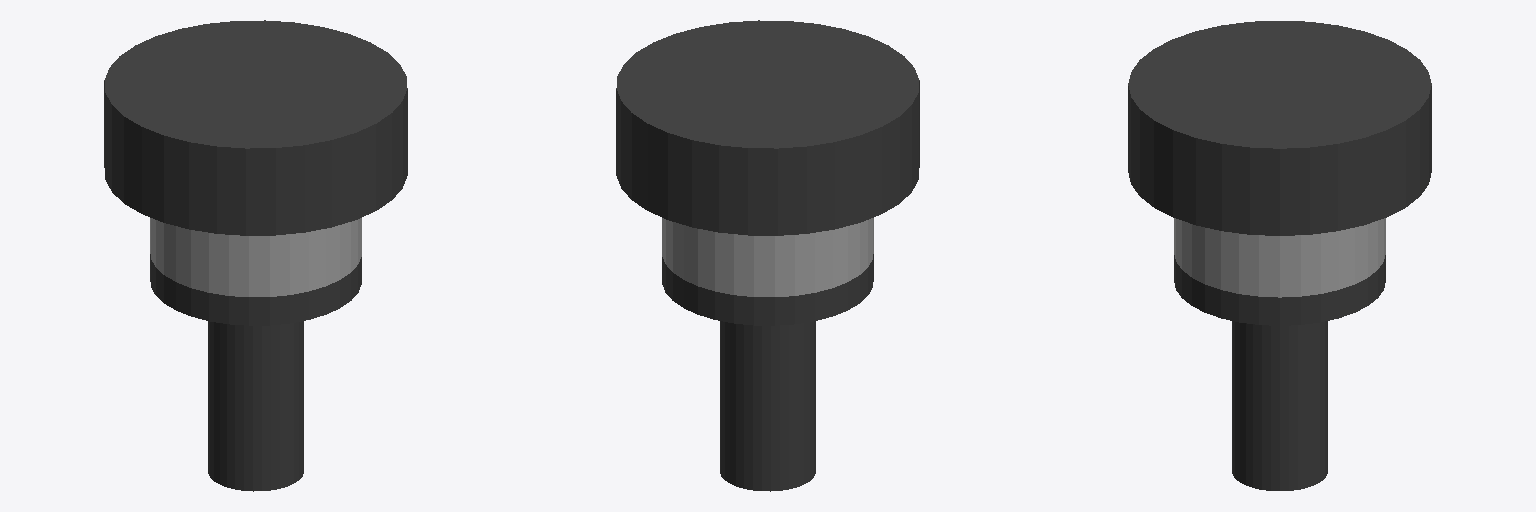
The robot description file, URDF, robot "panda":
<?xml version="1.0" ?>
<!-- =================================================================================== -->
<!-- |    This document was autogenerated by xacro from panda_arm_hand.urdf.xacro      | -->
<!-- |    EDITING THIS FILE BY HAND IS NOT RECOMMENDED                                 | -->
<!-- =================================================================================== -->
<robot name="panda" xmlns:xacro="http://www.ros.org/wiki/xacro">
  <link name="panda_link0">
  	<inertial>
      <origin rpy="0 0 0" xyz="0 0 0"/>
       <mass value="0.0"/>
       <inertia ixx="0.1" ixy="0" ixz="0" iyy="0.1" iyz="0" izz="0.1"/>
    </inertial>
    <visual>
      <geometry>
        <mesh filename="package://meshes/collision/link0.obj"/>
      </geometry>
      <material name="panda_white">
    		<color rgba="1. 1. 1. 1."/>
  		</material>
    </visual>
    <collision>
      <geometry>
        <mesh filename="package://meshes/collision/link0.obj"/>
      </geometry>
      <material name="panda_white"/>
    </collision>
  </link>
  <link name="panda_link1">
  	<inertial>
      <origin rpy="0 0 0" xyz="0 -0.04 -0.05"/>
       <mass value="2.7"/>
       <inertia ixx="0.1" ixy="0" ixz="0" iyy="0.1" iyz="0" izz="0.1"/>
    </inertial>
    <visual>
      <geometry>
        <mesh filename="package://meshes/visual/link1.obj"/>
      </geometry>
      <material name="panda_white"/>
    </visual>
    <collision>
      <geometry>
        <mesh filename="package://meshes/collision/link1.obj"/>
      </geometry>
      <material name="panda_white"/>
    </collision>
  </link>
  <joint name="panda_joint1" type="revolute">
    <safety_controller k_position="100.0" k_velocity="40.0" soft_lower_limit="-2.8973" soft_upper_limit="2.8973"/>
    <origin rpy="0 0 0" xyz="0 0 0.333"/>
    <parent link="panda_link0"/>
    <child link="panda_link1"/>
    <axis xyz="0 0 1"/>
    <limit effort="87" lower="-2.9671" upper="2.9671" velocity="2.1750"/>
  </joint>
  <link name="panda_link2">
  	<inertial>
      <origin rpy="0 0 0" xyz="0 -0.04 0.06"/>
       <mass value="2.73"/>
       <inertia ixx="0.1" ixy="0" ixz="0" iyy="0.1" iyz="0" izz="0.1"/>
    </inertial>
    <visual>
      <geometry>
        <mesh filename="package://meshes/visual/link2.obj"/>
      </geometry>
      <material name="panda_white"/>
    </visual>
    <collision>
      <geometry>
        <mesh filename="package://meshes/collision/link2.obj"/>
      </geometry>
      <material name="panda_white"/>
    </collision>
  </link>
  <joint name="panda_joint2" type="revolute">
    <safety_controller k_position="100.0" k_velocity="40.0" soft_lower_limit="-1.7628" soft_upper_limit="1.7628"/>
    <origin rpy="-1.57079632679 0 0" xyz="0 0 0"/>
    <parent link="panda_link1"/>
    <child link="panda_link2"/>
    <axis xyz="0 0 1"/>
    <limit effort="87" lower="-1.8326" upper="1.8326" velocity="2.1750"/>
  </joint>
  <link name="panda_link3">
	  <inertial>
      <origin rpy="0 0 0" xyz="0.01 0.01 -0.05"/>
       <mass value="2.04"/>
       <inertia ixx="0.1" ixy="0" ixz="0" iyy="0.1" iyz="0" izz="0.1"/>
    </inertial>
    <visual>
      <geometry>
        <mesh filename="package://meshes/visual/link3.obj"/>
      </geometry>
      <material name="panda_red">
    		<color rgba="1. 1. 1. 1."/>
  		</material>
    </visual>
    <collision>
      <geometry>
        <mesh filename="package://meshes/collision/link3.obj"/>
      </geometry>
    </collision>
  </link>
  <joint name="panda_joint3" type="revolute">
    <safety_controller k_position="100.0" k_velocity="40.0" soft_lower_limit="-2.8973" soft_upper_limit="2.8973"/>
    <origin rpy="1.57079632679 0 0" xyz="0 -0.316 0"/>
    <parent link="panda_link2"/>
    <child link="panda_link3"/>
    <axis xyz="0 0 1"/>
    <limit effort="87" lower="-2.9671" upper="2.9671" velocity="2.1750"/>
  </joint>
  <link name="panda_link4">
  	<inertial>
      <origin rpy="0 0 0" xyz="-0.03 0.03 0.02"/>
       <mass value="2.08"/>
       <inertia ixx="0.1" ixy="0" ixz="0" iyy="0.1" iyz="0" izz="0.1"/>
    </inertial>
    <visual>
      <geometry>
        <mesh filename="package://meshes/visual/link4.obj"/>
      </geometry>
      <material name="panda_white"/>
    </visual>
    <collision>
      <geometry>
        <mesh filename="package://meshes/collision/link4.obj"/>
      </geometry>
      <material name="panda_white"/>
    </collision>
  </link>
  <joint name="panda_joint4" type="revolute">
    <safety_controller k_position="100.0" k_velocity="40.0" soft_lower_limit="-3.0718" soft_upper_limit="-0.0698"/>
    <origin rpy="1.57079632679 0 0" xyz="0.0825 0 0"/>
    <parent link="panda_link3"/>
    <child link="panda_link4"/>
    <axis xyz="0 0 1"/>
    <limit effort="87" lower="-3.1416" upper="0.0" velocity="2.1750"/>
  </joint>
  <link name="panda_link5">
  	<inertial>
      <origin rpy="0 0 0" xyz="0 0.04 -0.12"/>
       <mass value="3"/>
       <inertia ixx="0.1" ixy="0" ixz="0" iyy="0.1" iyz="0" izz="0.1"/>
    </inertial>
    <visual>
      <geometry>
        <mesh filename="package://meshes/visual/link5.obj"/>
      </geometry>
      <material name="panda_white"/>
    </visual>
    <collision>
      <geometry>
        <mesh filename="package://meshes/collision/link5.obj"/>
      </geometry>
      <material name="panda_white"/>
    </collision>
  </link>
  <joint name="panda_joint5" type="revolute">
    <safety_controller k_position="100.0" k_velocity="40.0" soft_lower_limit="-2.8973" soft_upper_limit="2.8973"/>
    <origin rpy="-1.57079632679 0 0" xyz="-0.0825 0.384 0"/>
    <parent link="panda_link4"/>
    <child link="panda_link5"/>
    <axis xyz="0 0 1"/>
    <limit effort="12" lower="-2.9671" upper="2.9671" velocity="2.6100"/>
  </joint>
  <link name="panda_link6">
  	<inertial>
      <origin rpy="0 0 0" xyz="0.04 0 0"/>
       <mass value="1.3"/>
       <inertia ixx="0.1" ixy="0" ixz="0" iyy="0.1" iyz="0" izz="0.1"/>
    </inertial>
    <visual>
      <geometry>
        <mesh filename="package://meshes/visual/link6.obj"/>
      </geometry>
      <material name="panda_white"/>
    </visual>
    <collision>
      <geometry>
        <mesh filename="package://meshes/collision/link6.obj"/>
      </geometry>
      <material name="panda_white"/>
    </collision>
  </link>
  <joint name="panda_joint6" type="revolute">
    <safety_controller k_position="100.0" k_velocity="40.0" soft_lower_limit="-0.0175" soft_upper_limit="3.7525"/>
    <origin rpy="1.57079632679 0 0" xyz="0 0 0"/>
    <parent link="panda_link5"/>
    <child link="panda_link6"/>
    <axis xyz="0 0 1"/>
    <limit effort="12" lower="-0.0873" upper="3.8223" velocity="2.6100"/>
  </joint>
  <link name="panda_link7">
  	<inertial>
      <origin rpy="0 0 0" xyz="0 0 0.08"/>
       <mass value=".2"/>
       <inertia ixx="0.1" ixy="0" ixz="0" iyy="0.1" iyz="0" izz="0.1"/>
    </inertial>
    <visual>
      <geometry>
        <mesh filename="package://meshes/collision/link7.obj"/>
      </geometry>
      <material name="panda_white"/>
    </visual>
    <collision>
      <geometry>
        <mesh filename="package://meshes/collision/link7.obj"/>
      </geometry>
      <material name="panda_white"/>
    </collision>
  </link>
  <joint name="panda_joint7" type="revolute">
    <safety_controller k_position="100.0" k_velocity="40.0" soft_lower_limit="-2.8973" soft_upper_limit="2.8973"/>
    <origin rpy="1.57079632679 0 0" xyz="0.088 0 0"/>
    <parent link="panda_link6"/>
    <child link="panda_link7"/>
    <axis xyz="0 0 1"/>
    <limit effort="12" lower="-2.9671" upper="2.9671" velocity="2.6100"/>
  </joint>

  <link name="panda_link8">
  	 <inertial>
      <origin rpy="0 0 0" xyz="0 0 0"/>
       <mass value="0.0"/>
       <inertia ixx="0.1" ixy="0" ixz="0" iyy="0.1" iyz="0" izz="0.1"/>
    </inertial>
  </link>
  <joint name="panda_joint8" type="fixed">
    <origin rpy="0 0 0" xyz="0 0 0.107"/>
    <parent link="panda_link7"/>
    <child link="panda_link8"/>
    <axis xyz="0 0 0"/>
  </joint>


  <link name="panda_flange">
  	 <inertial>
      <origin rpy="0 0 0" xyz="0 0 0"/>
       <mass value="0.0"/>
       <inertia ixx="0.0" ixy="0" ixz="0" iyy="0.0" iyz="0" izz="0.0"/>
    </inertial>
    <visual>
      <origin rpy="0.0 0.0 0.0" xyz="0.0 0.0 0.01"/>
      <geometry>
        <cylinder length="0.02" radius="0.0315"/>
      </geometry>
      <material name="panda_grey">
        <color rgba="0.3 0.3 0.3 1."/>
      </material>
    </visual>
    <collision>
      <origin rpy="0.0 0.0 0.0" xyz="0.0 0.0 0.01"/>
      <geometry>
        <cylinder length="0.02" radius="0.0315"/>
      </geometry>
    </collision>
  </link>
  <joint name="panda_joint9" type="fixed">
    <origin rpy="0 0 0" xyz="0 0 0"/>
    <parent link="panda_link8"/>
    <child link="panda_flange"/>
    <axis xyz="0 0 0"/>
  </joint>

  <link name="panda_rft44">
  	 <inertial>
      <origin rpy="0 0 0" xyz="0 0 0"/>
       <mass value="0.0"/>
       <inertia ixx="0.0" ixy="0" ixz="0" iyy="0.0" iyz="0" izz="0.0"/>
    </inertial>
    <visual>
      <origin rpy="0.0 0.0 0.0" xyz="0.0 0.0 0.00925"/>
      <geometry>
        <cylinder length="0.0185" radius="0.022"/>
      </geometry>
      <material name="panda_grey">
        <color rgba="0.7 0.7 0.7 1."/>
      </material>
    </visual>
    <collision>
      <origin rpy="0.0 0.0 0.0" xyz="0.0 0.0 0.00925"/>
      <geometry>
        <cylinder length="0.0185" radius="0.022"/>
      </geometry>
    </collision>
  </link>
  <joint name="panda_joint10" type="fixed">
    <origin rpy="0 0 0" xyz="0 0 0.02"/>
    <parent link="panda_flange"/>
    <child link="panda_rft44"/>
    <axis xyz="0 0 0"/>
  </joint>

  <link name="panda_stick">
  	 <inertial>
      <origin rpy="0 0 0" xyz="0 0 0"/>
       <mass value="0.0"/>
       <inertia ixx="0.0" ixy="0" ixz="0" iyy="0.0" iyz="0" izz="0.0"/>
    </inertial>
    <visual>
      <origin rpy="0.0 0.0 0.0" xyz="0.0 0.0 0.00325"/>
      <geometry>
        <cylinder length="0.0065" radius="0.022"/>
      </geometry>
      <material name="panda_grey">
        <color rgba="0.3 0.3 0.3 1."/>
      </material>
    </visual>
    <visual>
      <origin rpy="0.0 0.0 0.0" xyz="0.0 0.0 0.025"/>
      <geometry>
        <cylinder length="0.05" radius="0.01"/>
      </geometry>
      <material name="panda_grey">
        <color rgba="0.3 0.3 0.3 1."/>
      </material>
    </visual>
    <collision>
      <origin rpy="0.0 0.0 0.0" xyz="0.0 0.0 0.025"/>
      <geometry>
        <cylinder length="0.05" radius="0.01"/>
      </geometry>
    </collision>
  </link>

  <joint name="panda_joint11" type="fixed">
    <origin rpy="0 0 0" xyz="0 0 0.0185"/>
    <parent link="panda_rft44"/>
    <child link="panda_stick"/>
    <axis xyz="0 0 0"/>
  </joint>

  <link name="panda_ee">
  	 <inertial>
      <origin rpy="0 0 0" xyz="0 0 0"/>
       <mass value="0.0"/>
       <inertia ixx="0.0" ixy="0" ixz="0" iyy="0.0" iyz="0" izz="0.0"/>
    </inertial>
  </link>

  <joint name="panda_joint12" type="fixed">
    <origin rpy="0 0 0" xyz="0 0 0.2365"/>
    <parent link="panda_stick"/>
    <child link="panda_ee"/>
    <axis xyz="0 0 0"/>
  </joint>

</robot>

--- Facts derived from the render (not from the file) ---
Views: 3 orthographic renders of the robot side by side, from view 1: azimuth 30°, elevation 25°; view 2: azimuth 150°, elevation 25°; view 3: azimuth 270°, elevation 25°.
Robot: panda — 13 links, 12 joints (7 revolute, 5 fixed); root link panda_link0; default pose: every joint at zero.
Visible links, largest first — view 1: panda_flange, panda_stick, panda_rft44; view 2: panda_flange, panda_stick, panda_rft44; view 3: panda_flange, panda_stick, panda_rft44.
Boxes of the visible links, x1,y1,x2,y2 form: panda_flange: (104, 20, 407, 235); panda_stick: (150, 254, 361, 491); panda_rft44: (150, 218, 361, 296); panda_flange: (616, 20, 919, 235); panda_stick: (662, 254, 873, 491); panda_rft44: (662, 218, 873, 296); panda_flange: (1128, 21, 1431, 235); panda_stick: (1174, 255, 1385, 490); panda_rft44: (1174, 218, 1385, 297).
Bounding box of the posed robot: 0.063 × 0.063 × 0.0885 m (x, y, z).
Meshes: 8 distinct files referenced, 0 mesh visuals loaded (none loaded); not drawn: 8 (reference not matched to a file when rendering).